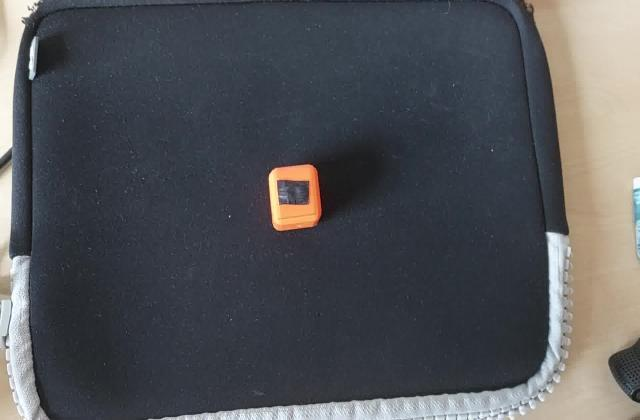black: (272, 178, 311, 210)
sticker: (266, 162, 324, 234)
